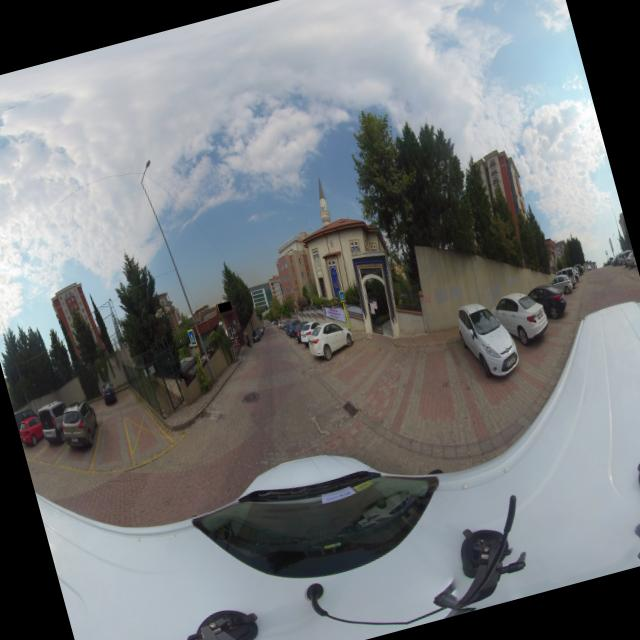SignStore: (217, 300, 231, 312)
